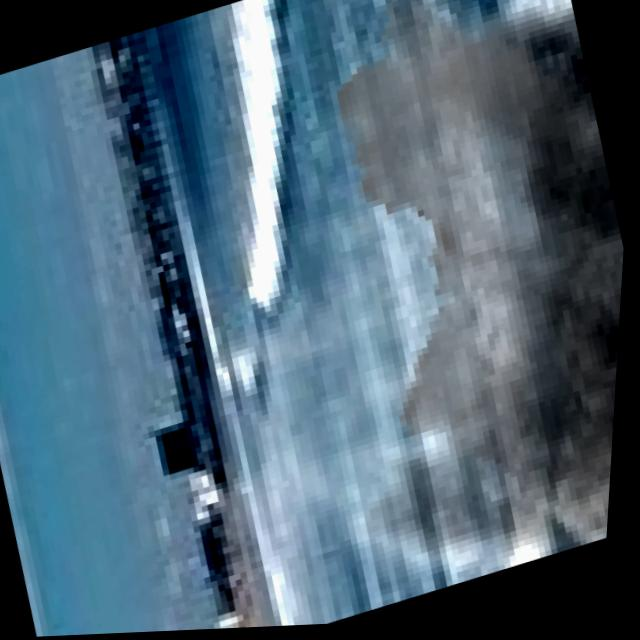smoke: (88, 0, 640, 636)
